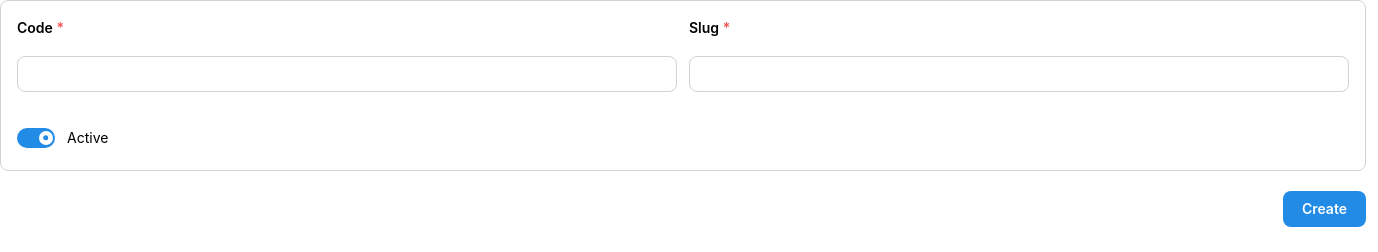
Test: AdminGeneratedForm future resource config contract › supports typed standard fields, create mapping, and known server error mapping
Type "SKU 1" into the field labelled "Code *" at (347, 74), box [17,56,677,92]
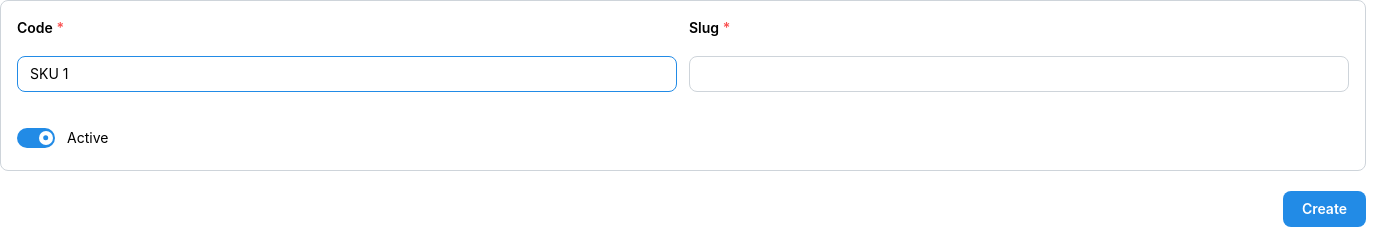
Type "sku-1" into the field labelled "Slug *" at (1019, 74), box [689,56,1349,92]
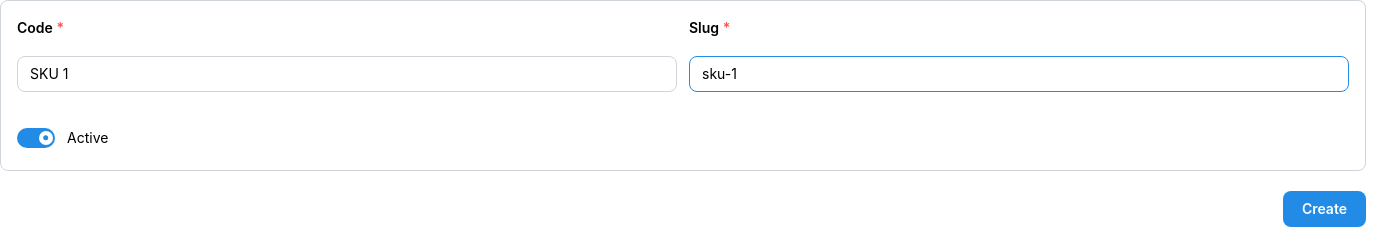
Click the button "Create" at (1324, 209), box [1283,191,1366,227]
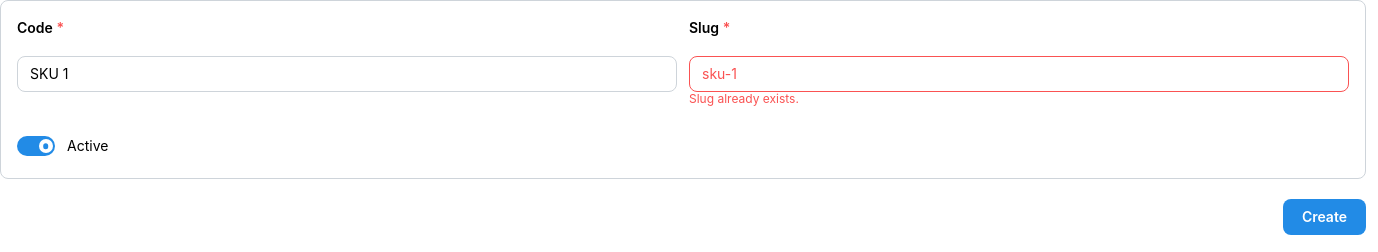
Expected: the text "Slug already exists." is shown, [689,91,799,106]
